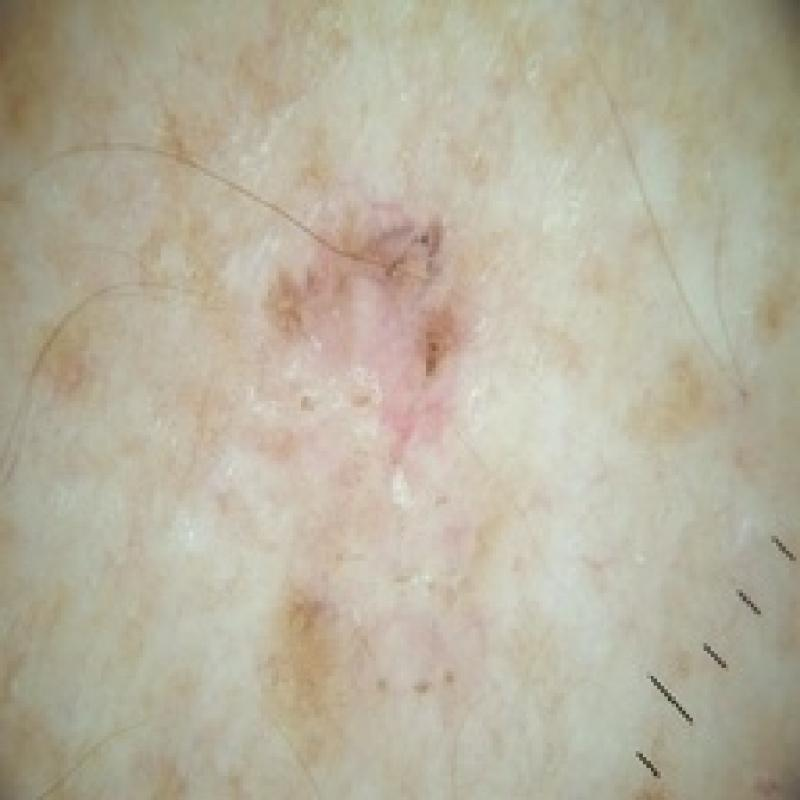malignant: (219, 179, 524, 545)
